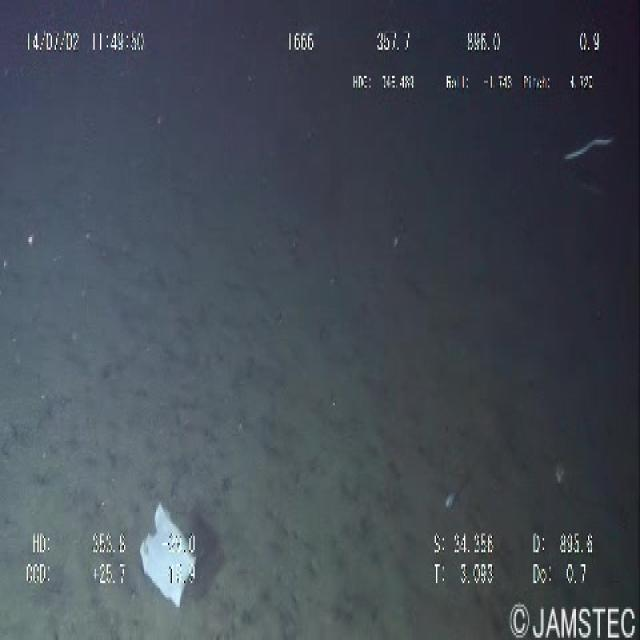plastic: (130, 488, 198, 621)
